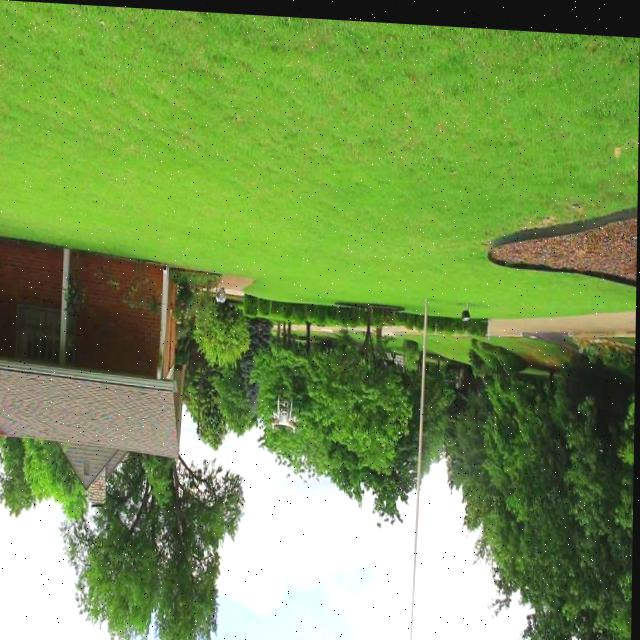drone: (270, 389, 299, 430)
